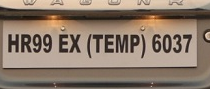0: (162, 32, 173, 54)
3: (173, 33, 183, 55)
6: (152, 33, 162, 53)
7: (182, 34, 194, 54)
9: (42, 33, 53, 53), (32, 33, 42, 53)
E: (103, 33, 115, 53), (58, 33, 69, 53)
H: (7, 33, 20, 53)
M: (115, 34, 129, 54)
P: (129, 34, 140, 54)
R: (20, 33, 32, 53)
T: (92, 33, 103, 54)
X: (69, 33, 82, 54)
